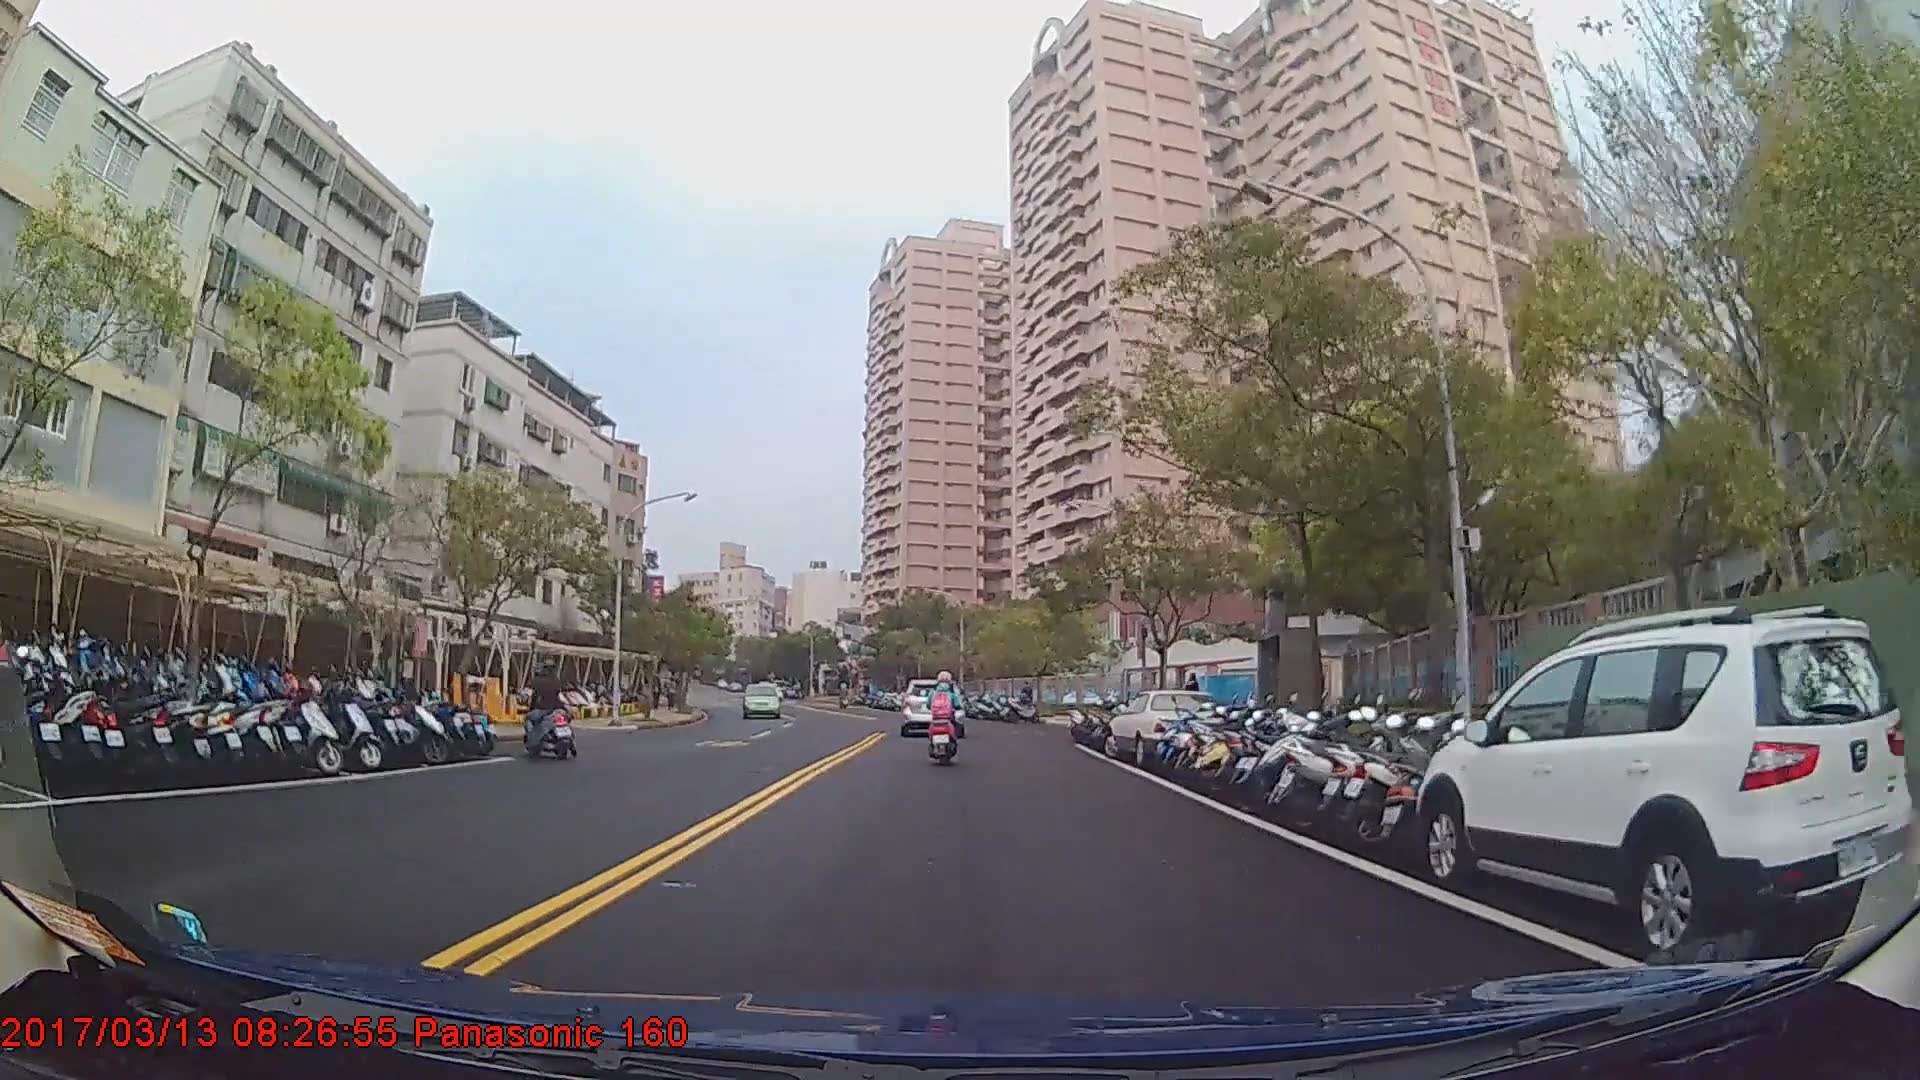rider: (513, 663, 581, 763), (922, 670, 964, 769)
vehicle: (1415, 603, 1885, 958), (1102, 689, 1221, 765), (896, 677, 963, 735), (739, 681, 783, 717)
